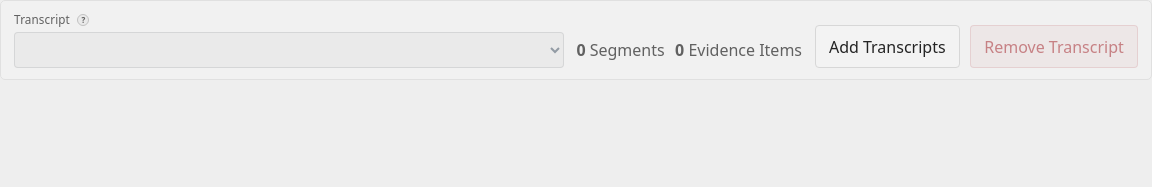
Test: Codes project entry screen › shows explicit transcript import actions in the opened-project toolbar
Click the heading "Add Transcripts" at (887, 47), box [815,25,960,68]
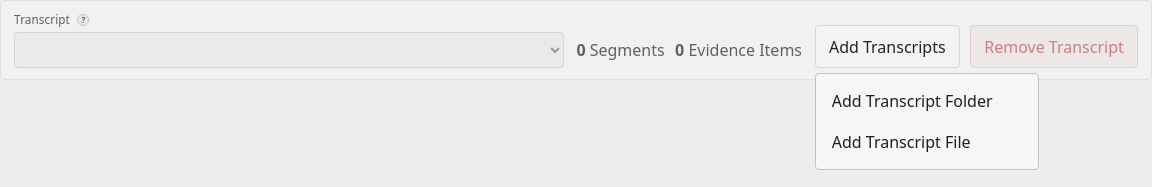
Expected: the button "Add Transcript File" is enabled, [821,121,1032,163]
Expected: the button "Add Transcript Folder" is enabled, [821,80,1032,121]
